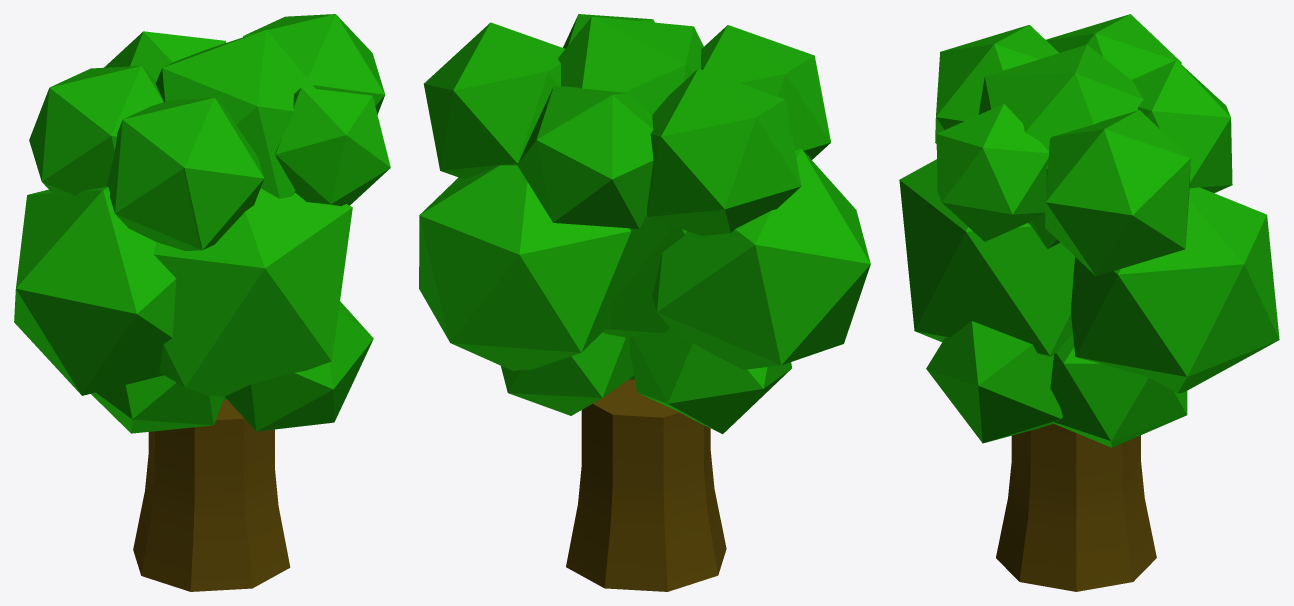
Rendered from Tree2.fbx.
The picture shows the model from 3 angles, left to right: view 1: azimuth 30°, elevation 25°; view 2: azimuth 150°, elevation 25°; view 3: azimuth 270°, elevation 25°; orthographic projection. The views are drawn at different scales.
Parts seen in each view (by area): view 1: Tree2; view 2: Tree2; view 3: Tree2.
Boxes of the visible parts, box(x1,y1,x2,y2) form: Tree2: box(14, 14, 390, 591); Tree2: box(419, 14, 870, 591); Tree2: box(899, 14, 1279, 591).
Size of the model in its own units: 139 by 172 by 116.
